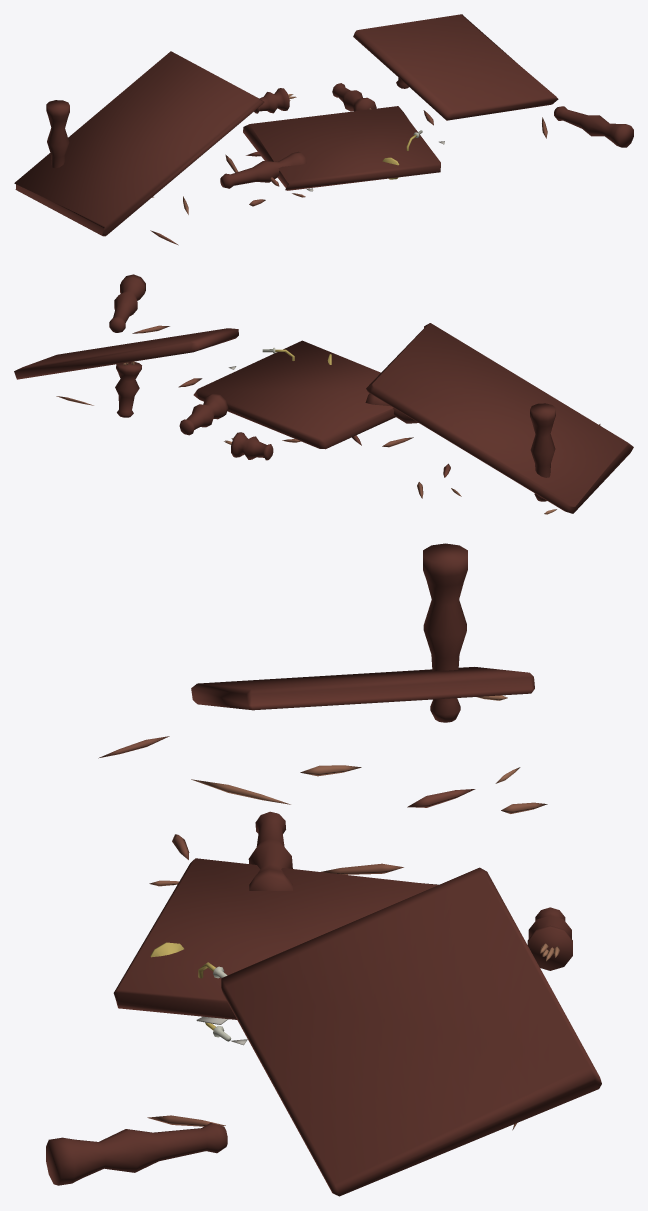
File: table_wrecked.glb
3 renders of one model, top to bottom at view 1: azimuth 30°, elevation 25°; view 2: azimuth 150°, elevation 25°; view 3: azimuth 270°, elevation 25°, orthographic. The views are drawn at different scales.
Visible parts, largest first — view 1: table_wrecked; view 2: table_wrecked; view 3: table_wrecked.
Part boxes in pixels (x1,y1,x2,y2): table_wrecked: (14,14,633,245); table_wrecked: (14,274,633,514); table_wrecked: (46,543,601,1196).
Size of what is drawn, in the model's own units: 5.12 by 0.954 by 2.39.
